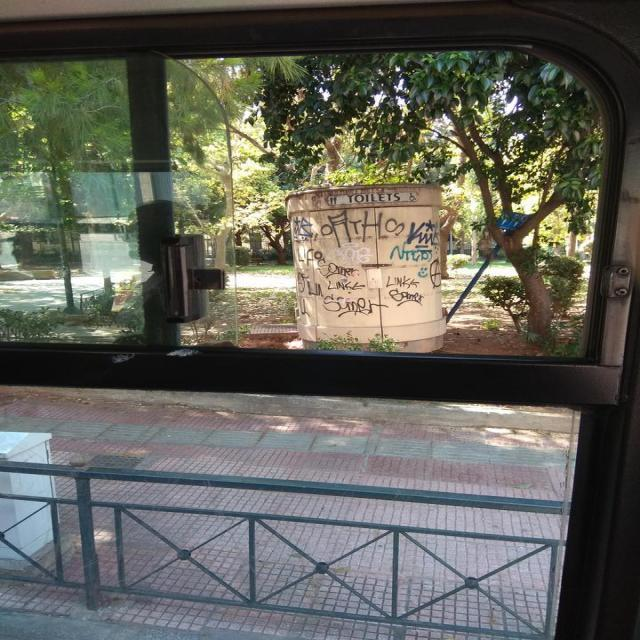nonspitting: (298, 252, 364, 298), (322, 211, 404, 247), (322, 294, 388, 317), (386, 274, 424, 306), (408, 220, 440, 248), (390, 242, 432, 262), (292, 216, 318, 244), (429, 257, 441, 287), (418, 268, 428, 278)
